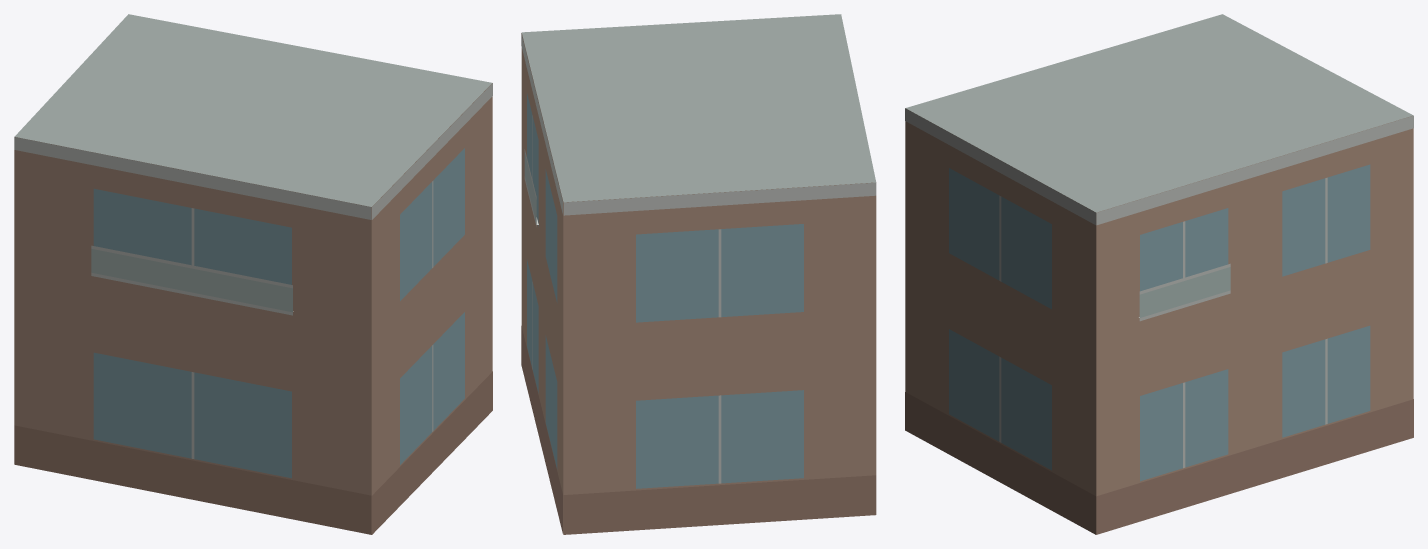
File: survey-upis-32616674.glb
3 views of the same model, side by side, from view 1: azimuth 30°, elevation 25°; view 2: azimuth 150°, elevation 25°; view 3: azimuth 270°, elevation 25° (orthographic). The views are drawn at different scales.
Visible parts, largest first — view 1: survey-upis-32616674.tmp; view 2: survey-upis-32616674.tmp; view 3: survey-upis-32616674.tmp.
Boxes of the visible parts, box(x1,y1,x2,y2) form: survey-upis-32616674.tmp: box(14, 14, 492, 534); survey-upis-32616674.tmp: box(521, 14, 876, 534); survey-upis-32616674.tmp: box(905, 14, 1413, 534).
Bounding box in the file's own units: 8.07 × 6.1 × 8.73.
